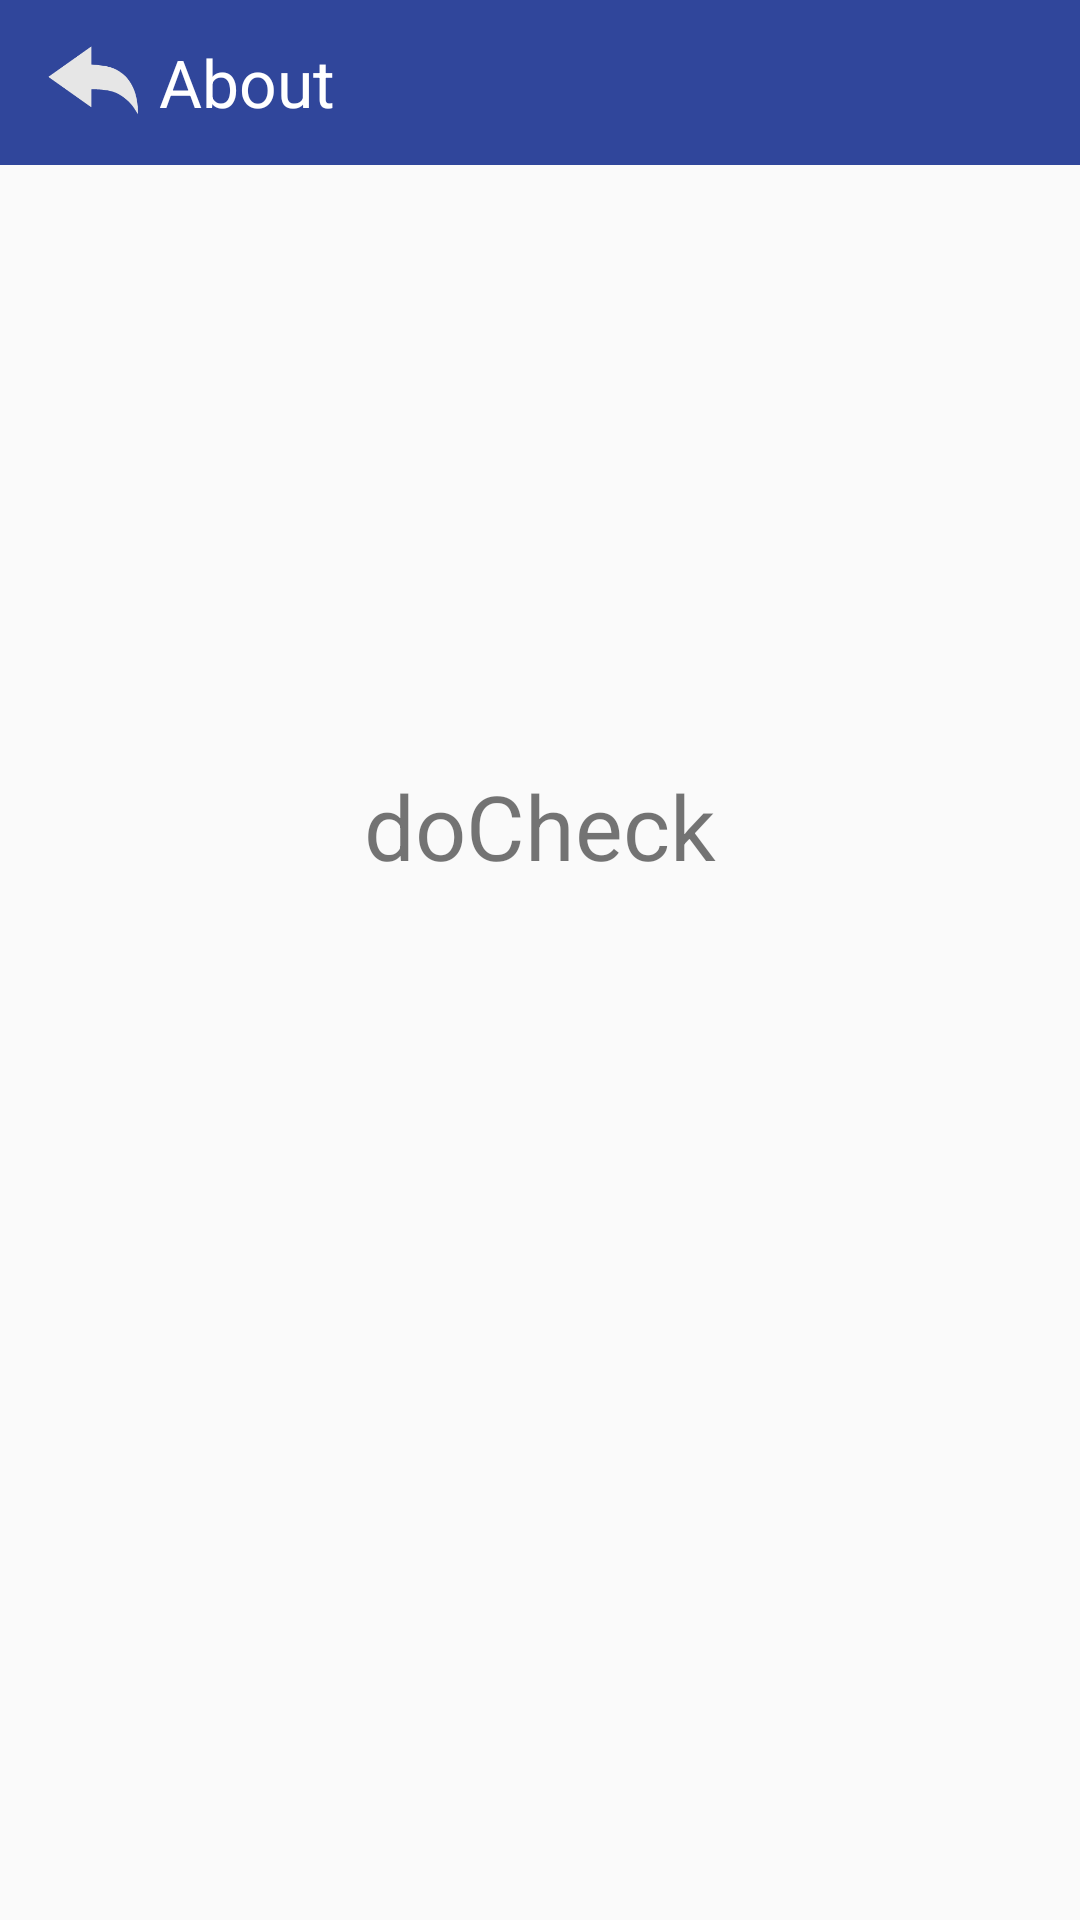

Icons on this 1080w x 1920h Android screen, each with the point to tap as [x,y]:
back: [93,80]
